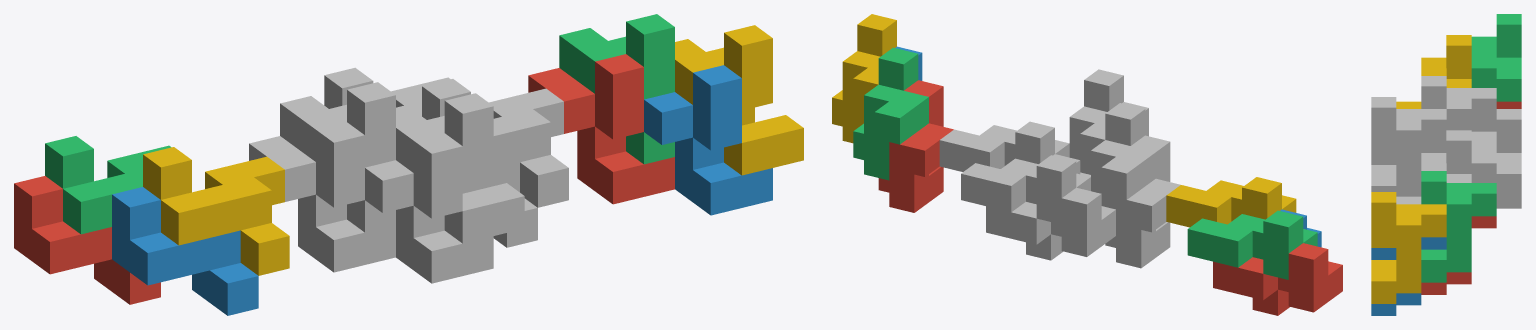
Rendered from tiling.obj.
3 renders of one model, left to right at view 1: azimuth 30°, elevation 25°; view 2: azimuth 150°, elevation 25°; view 3: azimuth 270°, elevation 25°, orthographic. The views are drawn at different scales.
Visible parts, largest first — view 1: copy_1_domain_4, copy_2_domain_1, copy_2_domain_5, copy_2_domain_2, copy_2_domain_6, copy_1_domain_2, copy_2_domain_4, copy_2_domain_8, copy_1_domain_8, copy_1_domain_1, copy_2_domain_3, copy_2_domain_7 (+3 smaller); view 2: copy_2_domain_7, copy_1_domain_1, copy_1_domain_5, copy_1_domain_3, copy_1_domain_7, copy_2_domain_5, copy_2_domain_1, copy_2_domain_3, copy_1_domain_8, copy_1_domain_4, copy_2_domain_8, copy_2_domain_4; view 3: copy_2_domain_8, copy_2_domain_4, copy_2_domain_7, copy_1_domain_3, copy_1_domain_7, copy_2_domain_3, copy_1_domain_4, copy_1_domain_8, copy_2_domain_6, copy_2_domain_5, copy_2_domain_2, copy_1_domain_5 (+2 smaller).
Part boxes in pixels (x1,y1,x2,y2): copy_1_domain_4: [143, 147, 289, 275]; copy_2_domain_1: [249, 122, 395, 272]; copy_2_domain_5: [528, 54, 674, 204]; copy_2_domain_2: [365, 133, 493, 283]; copy_2_domain_6: [644, 65, 772, 215]; copy_1_domain_2: [112, 187, 258, 315]; copy_2_domain_4: [396, 93, 524, 243]; copy_2_domain_8: [675, 25, 803, 175]; copy_1_domain_8: [422, 79, 568, 207]; copy_1_domain_1: [14, 176, 160, 304]; copy_2_domain_3: [280, 82, 395, 232]; copy_2_domain_7: [559, 14, 674, 164]; copy_2_domain_7: [853, 47, 928, 180]; copy_1_domain_1: [1213, 243, 1342, 315]; copy_1_domain_5: [986, 187, 1115, 260]; copy_1_domain_3: [1187, 210, 1317, 279]; copy_1_domain_7: [961, 155, 1090, 224]; copy_2_domain_5: [878, 80, 953, 212]; copy_2_domain_1: [1105, 135, 1180, 268]; copy_2_domain_3: [1091, 103, 1155, 209]; copy_1_domain_8: [939, 121, 1069, 171]; copy_1_domain_4: [1166, 177, 1296, 227]; copy_2_domain_8: [832, 14, 896, 143]; copy_2_domain_4: [1069, 69, 1123, 174]; copy_2_domain_8: [1371, 192, 1446, 303]; copy_2_domain_4: [1371, 97, 1446, 196]; copy_2_domain_7: [1421, 171, 1496, 282]; copy_1_domain_3: [1471, 14, 1521, 101]; copy_1_domain_7: [1471, 109, 1521, 196]; copy_2_domain_3: [1421, 76, 1496, 130]; copy_1_domain_4: [1396, 35, 1471, 108]; copy_1_domain_8: [1396, 130, 1471, 204]; copy_2_domain_6: [1371, 237, 1446, 315]; copy_2_domain_5: [1421, 216, 1496, 294]; copy_2_domain_2: [1371, 142, 1446, 164]; copy_1_domain_5: [1496, 196, 1521, 208].
Bounding box in the file's own units: 22 × 5 × 6.
